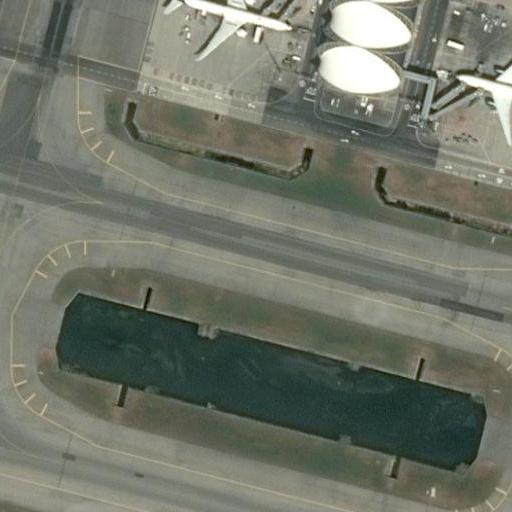Aircraft: (159, 0, 289, 61), (453, 33, 512, 142), (478, 0, 512, 18)
